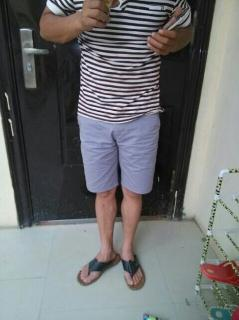short sleeve top: (46, 0, 192, 123)
shorts: (77, 100, 161, 195)
